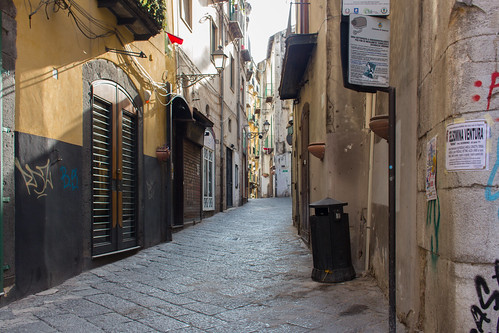building: (297, 5, 499, 333), (1, 1, 174, 309), (173, 1, 245, 224), (249, 32, 293, 197)
trash can: (301, 191, 358, 282)
